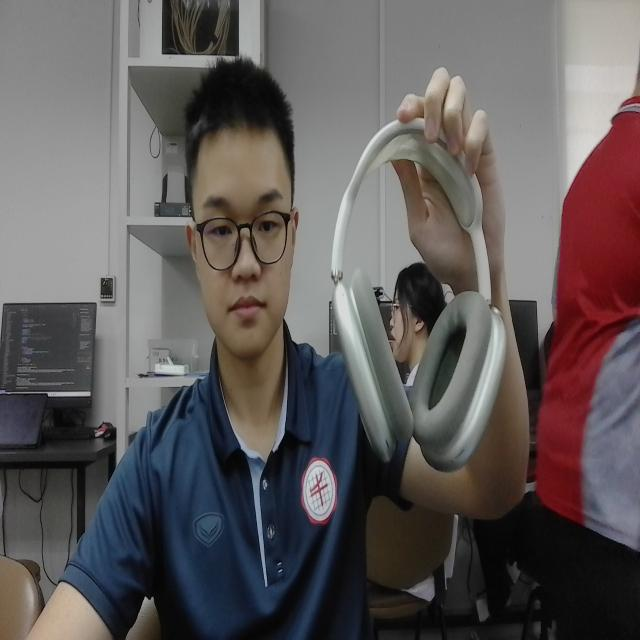airpods max: (326, 95, 513, 484)
